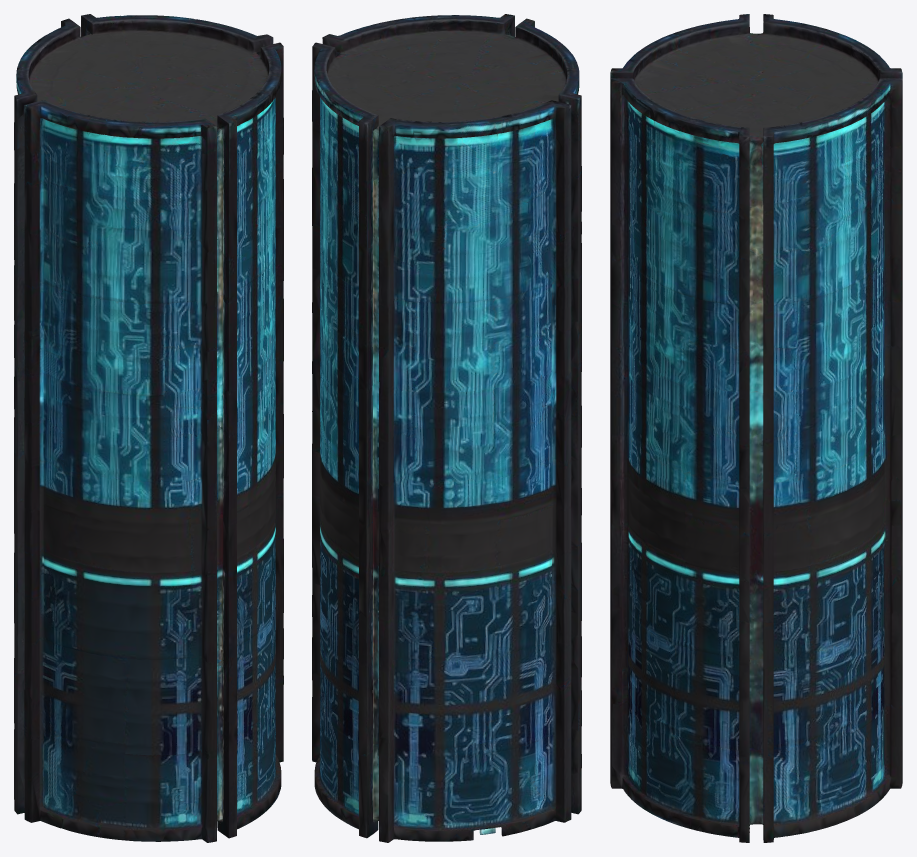
The model's file is tower_blue_mobile.glb.
3 views of the same model, side by side, from view 1: azimuth 30°, elevation 25°; view 2: azimuth 150°, elevation 25°; view 3: azimuth 270°, elevation 25° (orthographic).
Bounding box in the file's own units: 0.7121 × 1.9 × 0.7129.
Materials: 1 (1 with a texture image).
